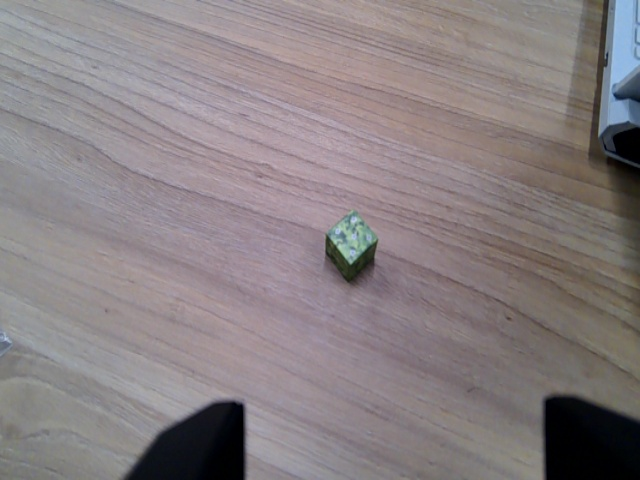grass: (324, 207, 380, 285)
